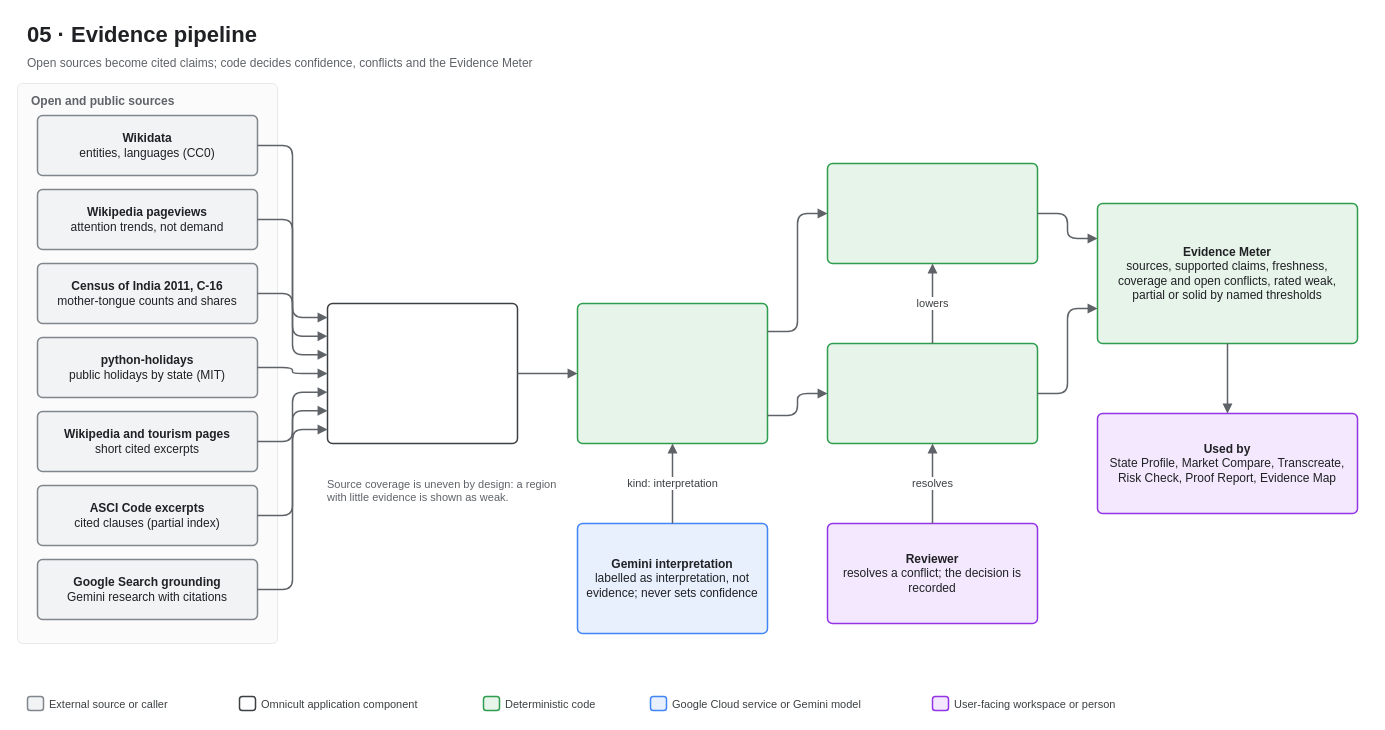
This 1385x730 diagram has some shape labels left out. Each missing label, with the centre of its shape:
Claims subject, value, scope and kind, each with source, date and excerpt: (x=672, y=373)
Confidence rules Low, Moderate or High, never a percentage: (x=932, y=213)
Conflict detection both values stay visible while it is open: (x=932, y=393)
Culture adapters rate-limited and cached; recorded responses in tests: (x=422, y=373)
